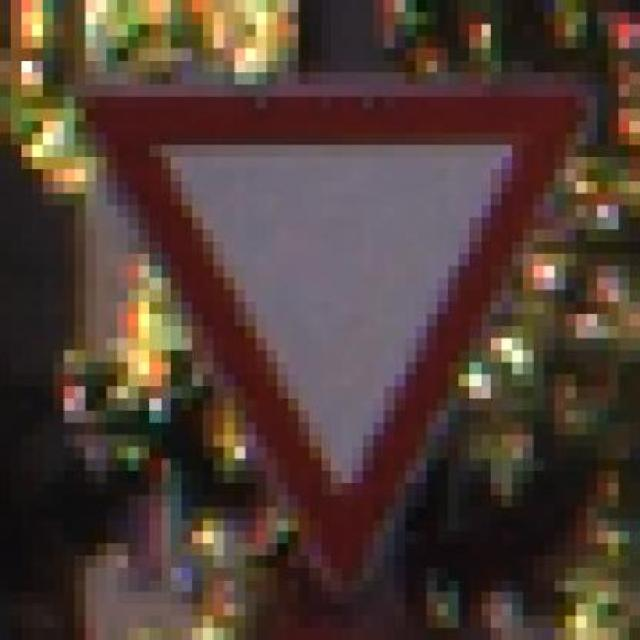Give Way: (64, 72, 608, 580)
